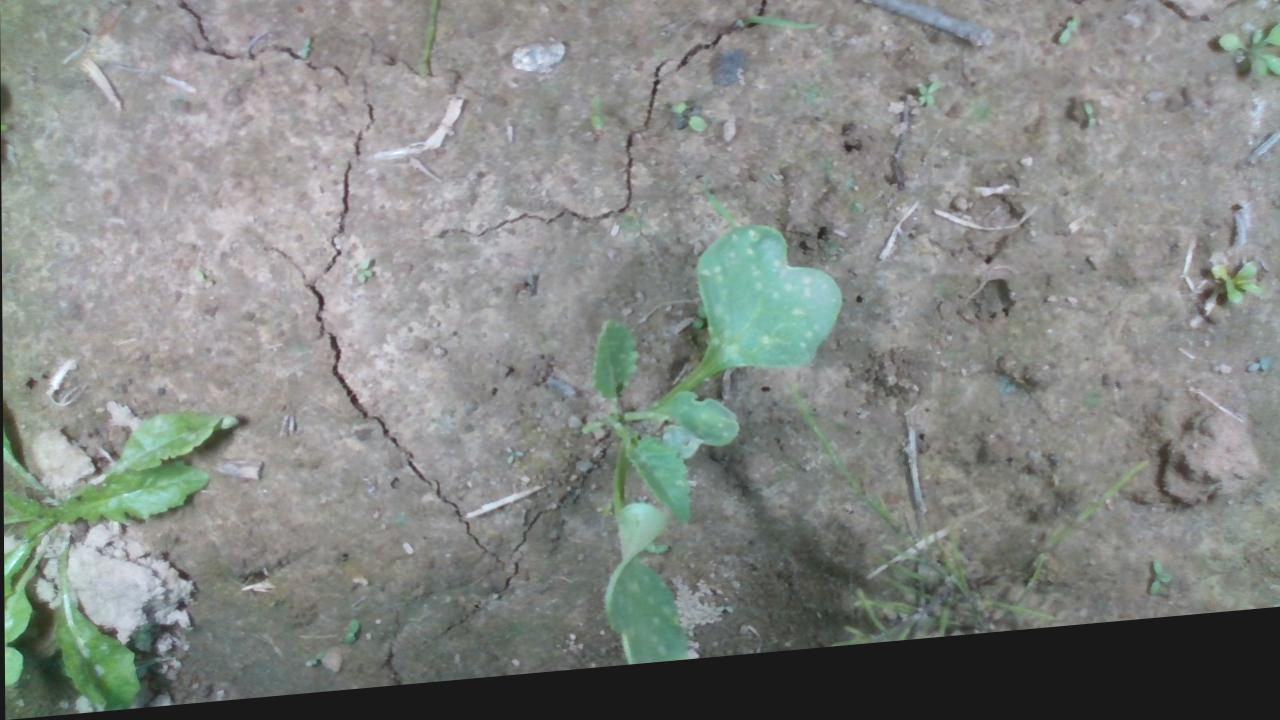weed: (1205, 280, 1258, 331), (667, 110, 707, 148), (1146, 573, 1172, 617), (585, 100, 604, 146), (336, 621, 361, 653), (1057, 32, 1079, 63), (351, 261, 373, 291), (915, 97, 939, 124), (1244, 376, 1271, 400)
